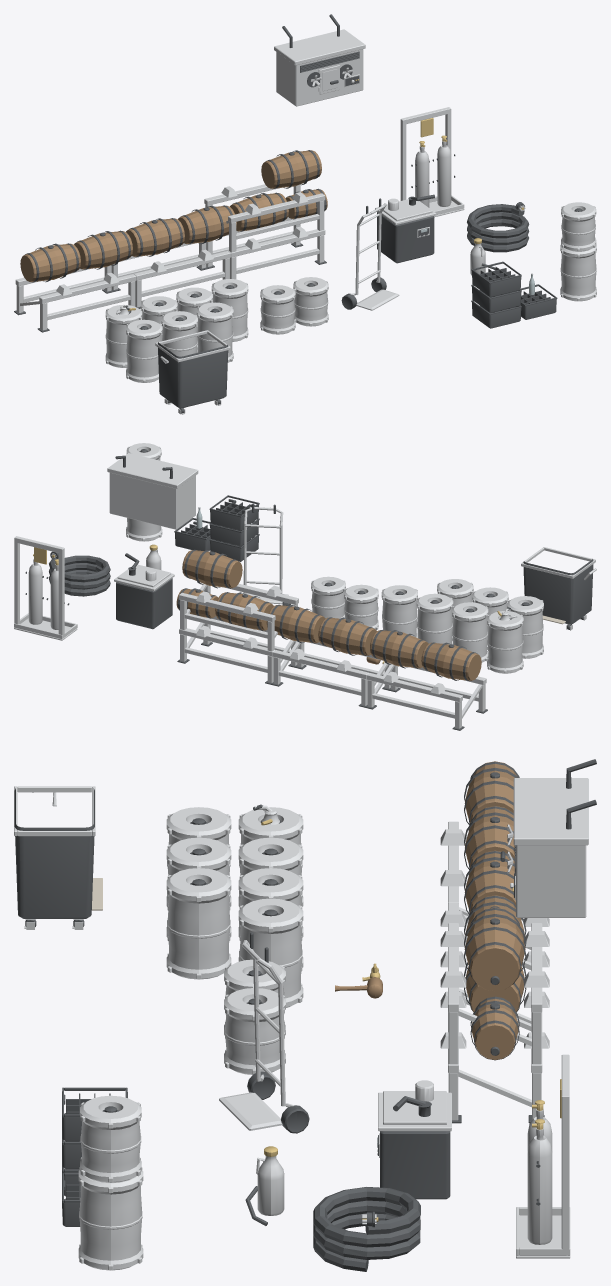
The model's file is bar-pub-and-brewery-taproom-cellar-d2303e96__18442.glb.
3 views of the same model, one above another, from view 1: azimuth 30°, elevation 25°; view 2: azimuth 150°, elevation 25°; view 3: azimuth 270°, elevation 25° (orthographic). The views are drawn at different scales.
Visible parts, largest first — view 1: 002-cask-stillage-two-tier/0, 023-cellar-cooler-unit/0, 027-bottle-skip/1, 022-gas-cylinder-rack/0, 000-cask-stillage/0, 025-python-cooler-line/0, 001-cask-stillage/0, 024-beer-cooler-recirculation/0, 015-keg-50l/0, 033-keg-50l/0, 018-keg-30l/0, 034-keg-30l/0 (+21 smaller); view 2: 023-cellar-cooler-unit/0, 002-cask-stillage-two-tier/0, 022-gas-cylinder-rack/0, 027-bottle-skip/1, 000-cask-stillage/0, 001-cask-stillage/0, 024-beer-cooler-recirculation/0, 011-keg-50l/0, 025-python-cooler-line/0, 012-keg-50l/0, 013-keg-50l/0, 014-keg-50l/0 (+26 smaller); view 3: 023-cellar-cooler-unit/0, 025-python-cooler-line/0, 027-bottle-skip/1, 002-cask-stillage-two-tier/0, 017-keg-50l/0, 022-gas-cylinder-rack/0, 033-keg-50l/0, 024-beer-cooler-recirculation/0, 034-keg-30l/0, 014-keg-50l/0, 019-keg-30l/0, 021-keg-trolley/0 (+25 smaller).
Part boxes in pixels (left/top/right/bottom): 002-cask-stillage-two-tier/0: left=204, top=184, right=325, bottom=279; 023-cellar-cooler-unit/0: left=274, top=29, right=365, bottom=106; 027-bottle-skip/1: left=157, top=342, right=228, bottom=413; 022-gas-cylinder-rack/0: left=400, top=107, right=464, bottom=217; 000-cask-stillage/0: left=15, top=265, right=136, bottom=330; 025-python-cooler-line/0: left=467, top=202, right=529, bottom=252; 001-cask-stillage/0: left=111, top=242, right=230, bottom=307; 024-beer-cooler-recirculation/0: left=377, top=194, right=434, bottom=263; 015-keg-50l/0: left=126, top=319, right=162, bottom=382; 033-keg-50l/0: left=560, top=245, right=596, bottom=301; 018-keg-30l/0: left=260, top=285, right=295, bottom=334; 034-keg-30l/0: left=561, top=202, right=596, bottom=251; 023-cellar-cooler-unit/0: left=107, top=453, right=198, bottom=529; 002-cask-stillage-two-tier/0: left=179, top=583, right=298, bottom=682; 022-gas-cylinder-rack/0: left=14, top=536, right=77, bottom=640; 027-bottle-skip/1: left=523, top=559, right=593, bottom=629; 000-cask-stillage/0: left=366, top=664, right=486, bottom=728; 001-cask-stillage/0: left=272, top=641, right=390, bottom=705; 024-beer-cooler-recirculation/0: left=116, top=553, right=172, bottom=629; 011-keg-50l/0: left=487, top=611, right=523, bottom=673; 025-python-cooler-line/0: left=49, top=551, right=110, bottom=596; 012-keg-50l/0: left=452, top=602, right=488, bottom=662; 013-keg-50l/0: left=416, top=593, right=453, bottom=644; 014-keg-50l/0: left=381, top=585, right=417, bottom=637; 023-cellar-cooler-unit/0: left=507, top=778, right=588, bottom=917; 025-python-cooler-line/0: left=313, top=1187, right=420, bottom=1271; 027-bottle-skip/1: left=14, top=788, right=94, bottom=926; 002-cask-stillage-two-tier/0: left=440, top=923, right=549, bottom=1120; 017-keg-50l/0: left=166, top=868, right=231, bottom=979; 022-gas-cylinder-rack/0: left=516, top=1054, right=570, bottom=1258; 033-keg-50l/0: left=78, top=1167, right=143, bottom=1270; 024-beer-cooler-recirculation/0: left=378, top=1096, right=450, bottom=1199; 034-keg-30l/0: left=80, top=1095, right=141, bottom=1182; 014-keg-50l/0: left=238, top=898, right=303, bottom=1007; 019-keg-30l/0: left=224, top=988, right=285, bottom=1074; 021-keg-trolley/0: left=219, top=940, right=294, bottom=1130.
Bounding box in the file's own units: 5.87 × 2.51 × 3.64.
